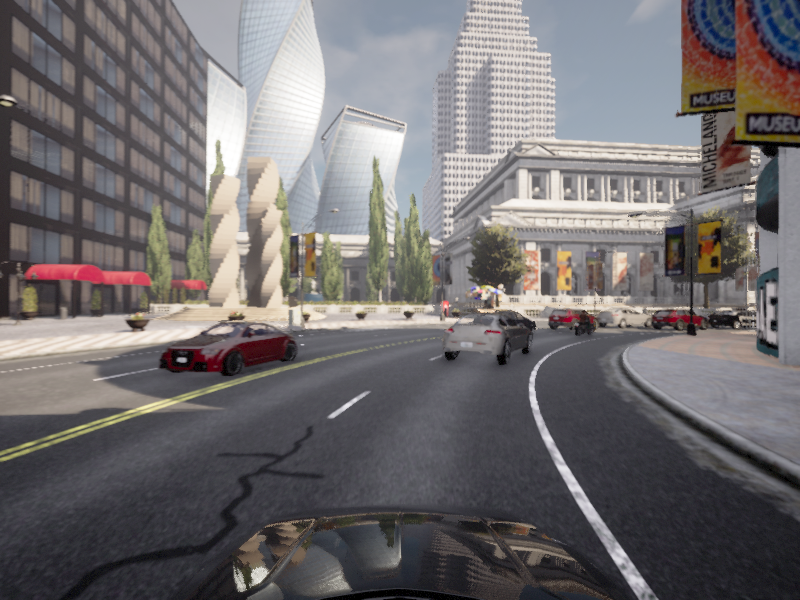vehicle: (148, 318, 303, 383), (435, 311, 535, 369), (472, 310, 540, 338), (703, 308, 778, 329), (645, 308, 713, 331), (542, 307, 603, 331), (592, 307, 655, 328), (646, 310, 714, 327), (569, 309, 599, 337)
